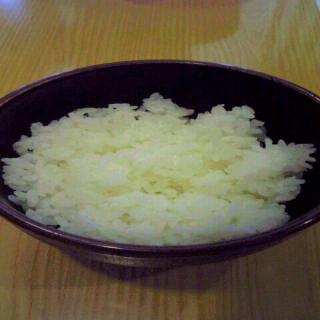Nasi: (1, 91, 320, 247)
